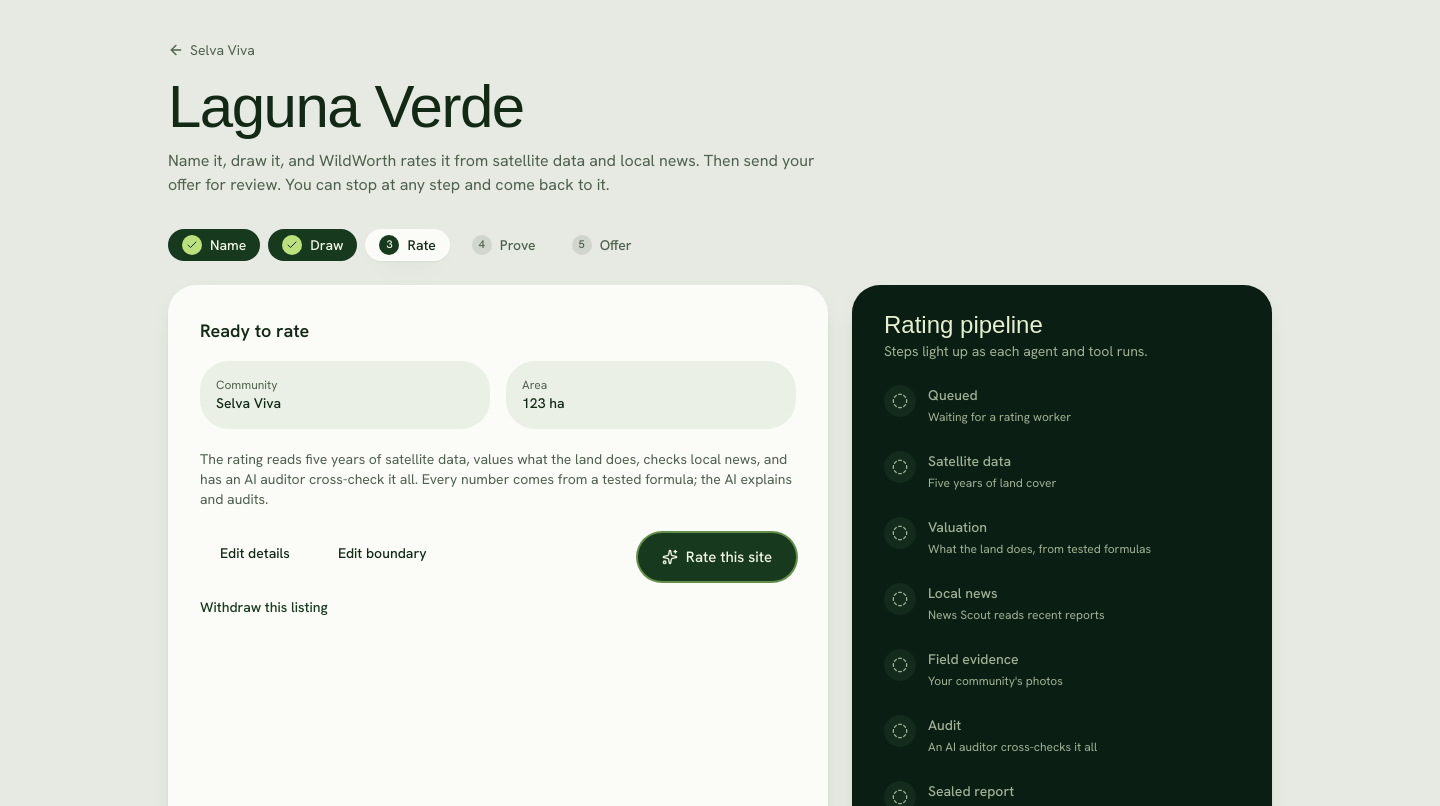
Test: rating progress › returns focus to "Rate this site" when the submit fails (T48)
This screenshot has width=1440, height=806.
Click the button "Rate this site" at [717, 557], box top-left (638, 533), bottom-right (796, 581)
(page scrolled)
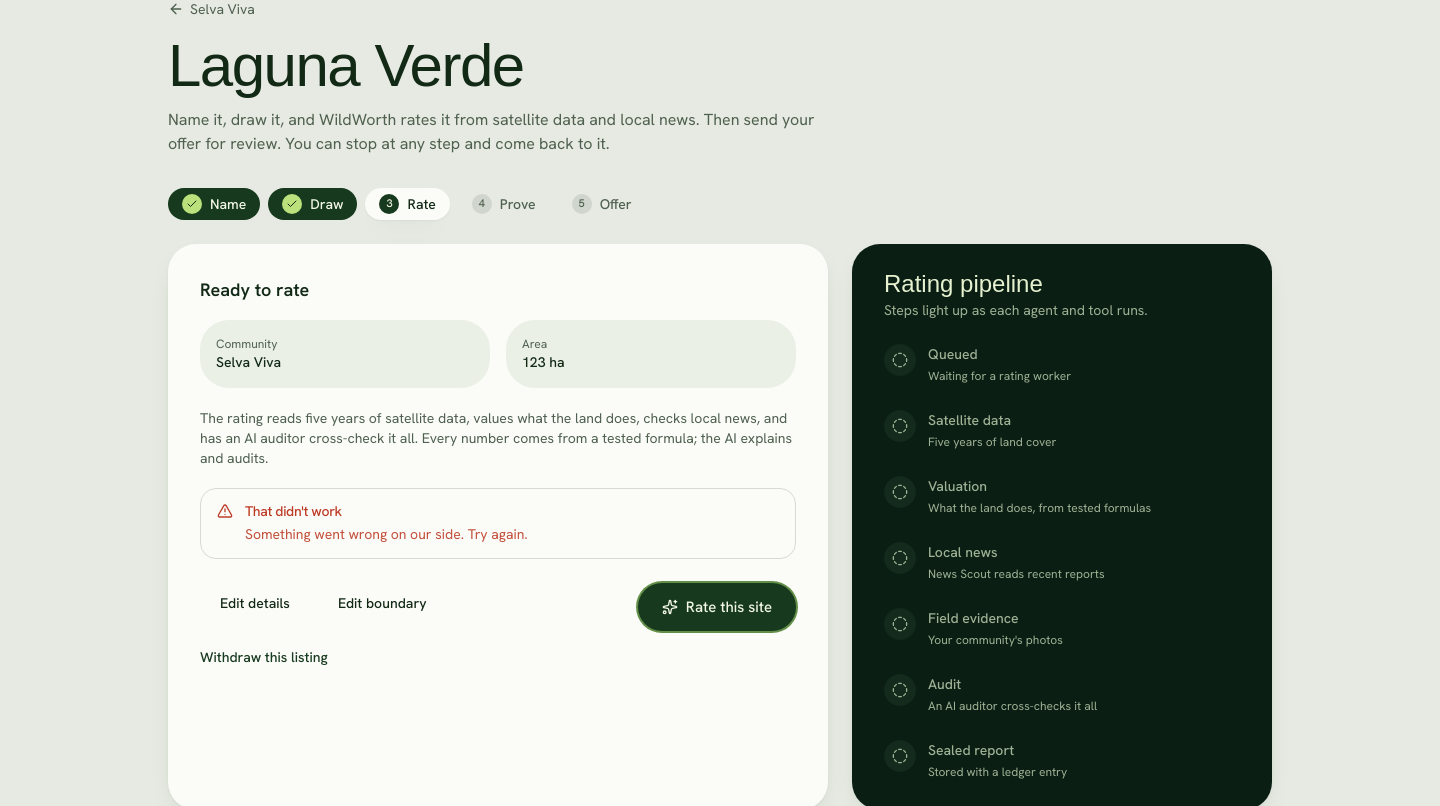
Expected: the heading "Ready to rate" is shown, top-left (200, 276), bottom-right (309, 304)
Result: the message "That didn't work Something went wrong on our side. Try again." is shown at top-left (200, 488), bottom-right (796, 559)
